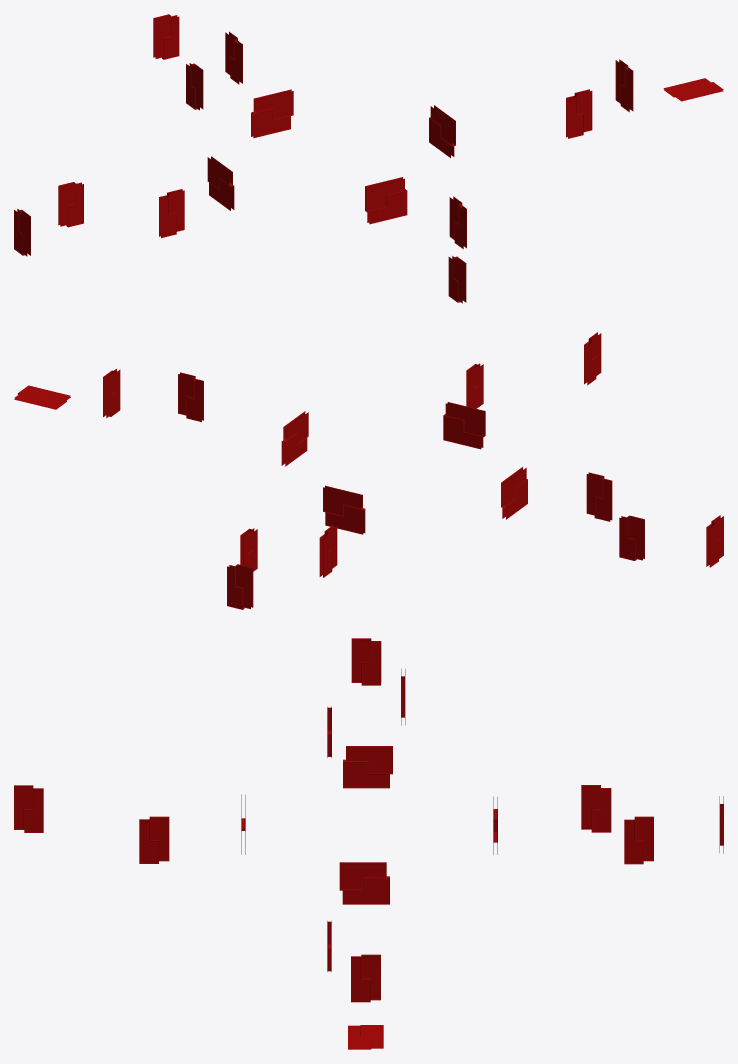
The model's file is Doors (1).fbx.
3 renders of one model, top to bottom at view 1: azimuth 30°, elevation 25°; view 2: azimuth 150°, elevation 25°; view 3: azimuth 270°, elevation 25°, orthographic. The views are drawn at different scales.
Visible parts, largest first — view 1: DoorPiece0014, DoorPiece0016, DoorPiece0015, DoorPiece0013, DoorPiece0022, DoorPiece0004, DoorPiece0025, DoorPiece0005, DoorPiece0024, DoorPiece0026, DoorPiece0008, DoorPiece0006 (+8 smaller); view 2: DoorPiece0014, DoorPiece0016, DoorPiece0015, DoorPiece0013, DoorPiece0022, DoorPiece0005, DoorPiece0004, DoorPiece0025, DoorPiece0008, DoorPiece0024, DoorPiece0023, DoorPiece0006 (+10 smaller); view 3: DoorPiece0024, DoorPiece0008, DoorPiece0023, DoorPiece0007, DoorPiece0012, DoorPiece0027, DoorPiece0020, DoorPiece0017, DoorPiece0028, DoorPiece0002, DoorPiece0001, DoorPiece0019 (+4 smaller).
Part boxes in pixels (x1=…): DoorPiece0014: x1=365, y1=177, x2=404, y2=212; DoorPiece0016: x1=253, y1=89, x2=293, y2=120; DoorPiece0015: x1=251, y1=109, x2=290, y2=138; DoorPiece0013: x1=367, y1=189, x2=407, y2=224; DoorPiece0022: x1=153, y1=14, x2=170, y2=58; DoorPiece0004: x1=58, y1=182, x2=75, y2=226; DoorPiece0025: x1=566, y1=96, x2=583, y2=138; DoorPiece0005: x1=159, y1=195, x2=176, y2=238; DoorPiece0024: x1=430, y1=105, x2=455, y2=146; DoorPiece0026: x1=574, y1=89, x2=592, y2=132; DoorPiece0008: x1=207, y1=156, x2=232, y2=189; DoorPiece0006: x1=167, y1=189, x2=184, y2=231; DoorPiece0014: x1=445, y1=402, x2=485, y2=437; DoorPiece0016: x1=323, y1=485, x2=362, y2=516; DoorPiece0015: x1=325, y1=505, x2=365, y2=534; DoorPiece0013: x1=443, y1=414, x2=483, y2=449; DoorPiece0022: x1=235, y1=564, x2=253, y2=608; DoorPiece0005: x1=594, y1=478, x2=612, y2=521; DoorPiece0004: x1=627, y1=515, x2=644, y2=560; DoorPiece0025: x1=186, y1=379, x2=203, y2=421; DoorPiece0008: x1=501, y1=467, x2=526, y2=508; DoorPiece0024: x1=283, y1=411, x2=308, y2=444; DoorPiece0023: x1=281, y1=434, x2=307, y2=466; DoorPiece0006: x1=586, y1=472, x2=604, y2=515; DoorPiece0024: x1=339, y1=862, x2=386, y2=890; DoorPiece0008: x1=346, y1=746, x2=392, y2=774; DoorPiece0023: x1=342, y1=876, x2=389, y2=904; DoorPiece0007: x1=343, y1=759, x2=389, y2=788; DoorPiece0012: x1=149, y1=816, x2=169, y2=861; DoorPiece0027: x1=361, y1=954, x2=380, y2=1000; DoorPiece0020: x1=634, y1=816, x2=653, y2=861; DoorPiece0017: x1=591, y1=788, x2=611, y2=832; DoorPiece0028: x1=351, y1=956, x2=370, y2=1002; DoorPiece0002: x1=351, y1=638, x2=371, y2=682; DoorPiece0001: x1=361, y1=641, x2=381, y2=685; DoorPiece0019: x1=624, y1=819, x2=643, y2=864.
Bounding box in the file's own units: 4908 × 291 × 4025.
